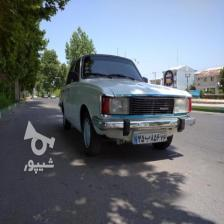plate: (132, 130, 166, 146)
